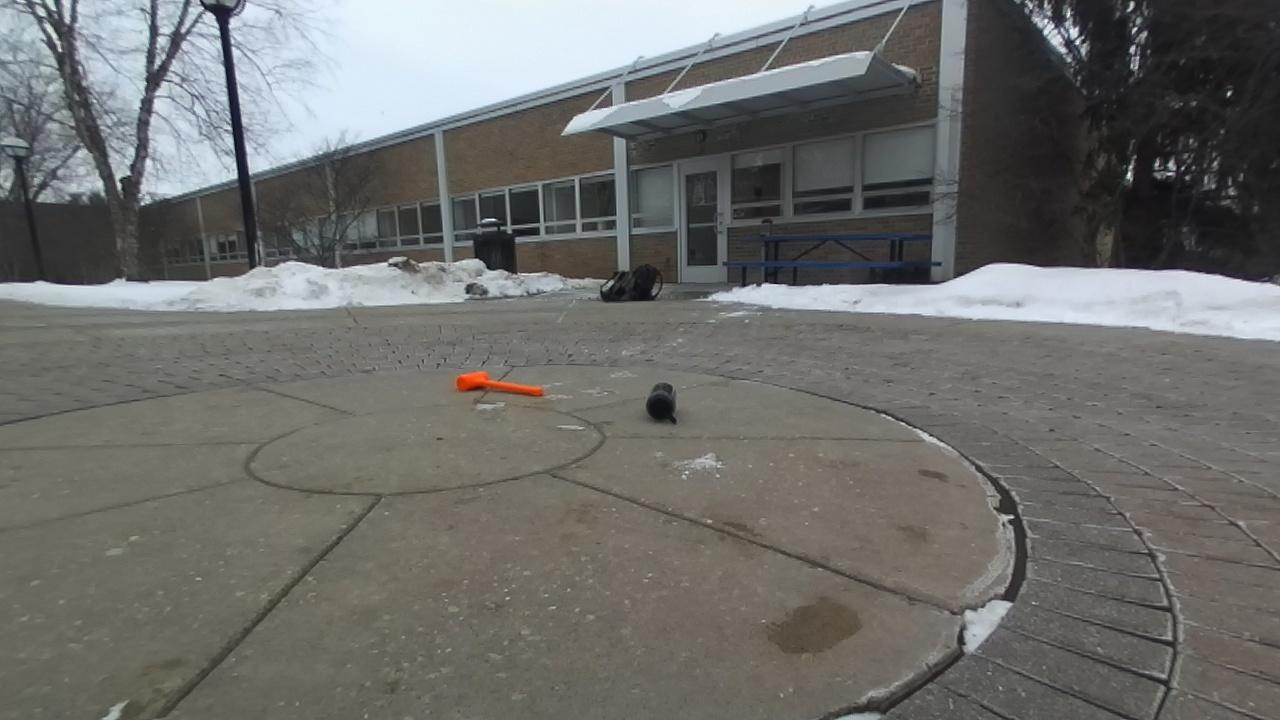bottle: (645, 384, 676, 422)
mallet: (456, 371, 543, 396)
